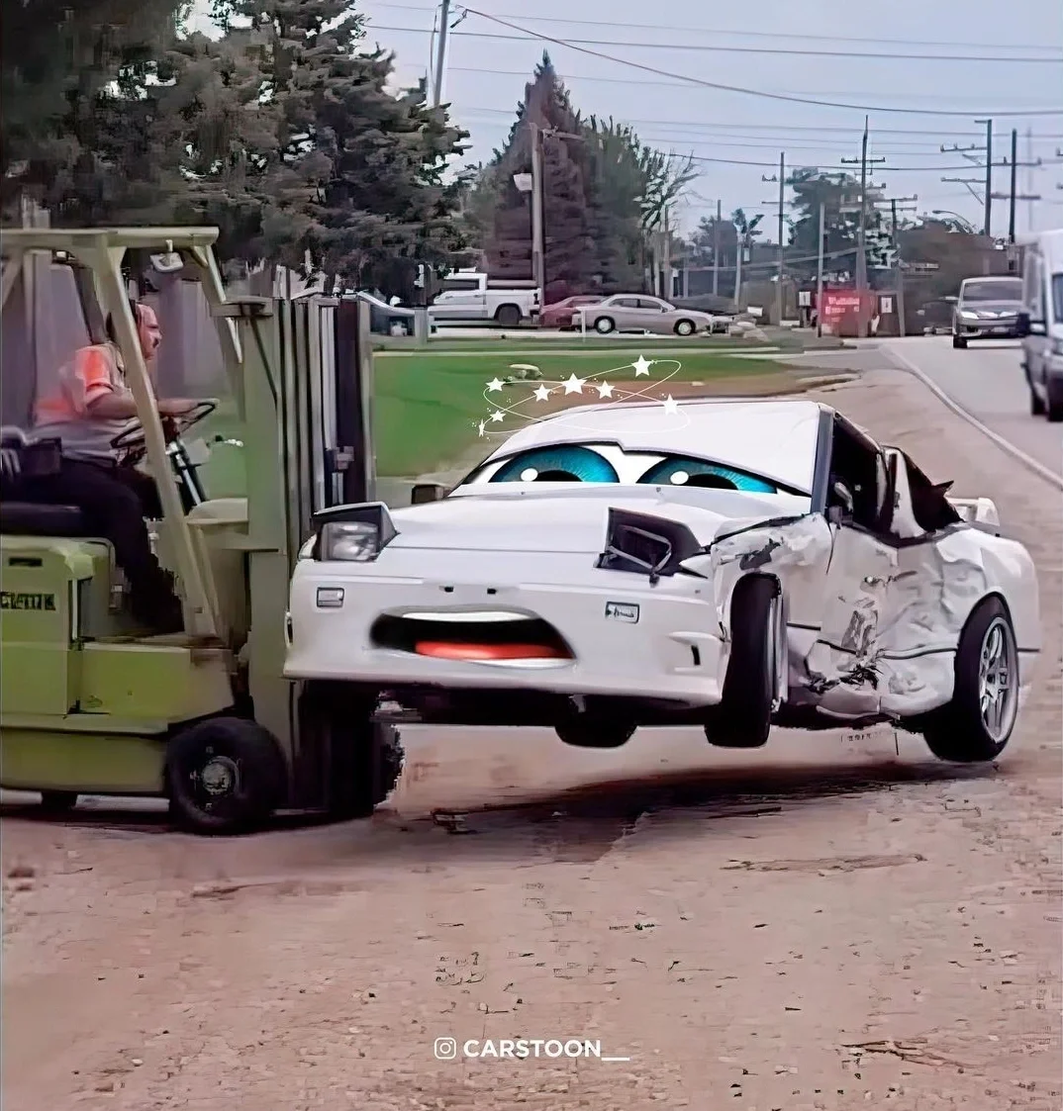other: (285, 389, 1043, 770)
